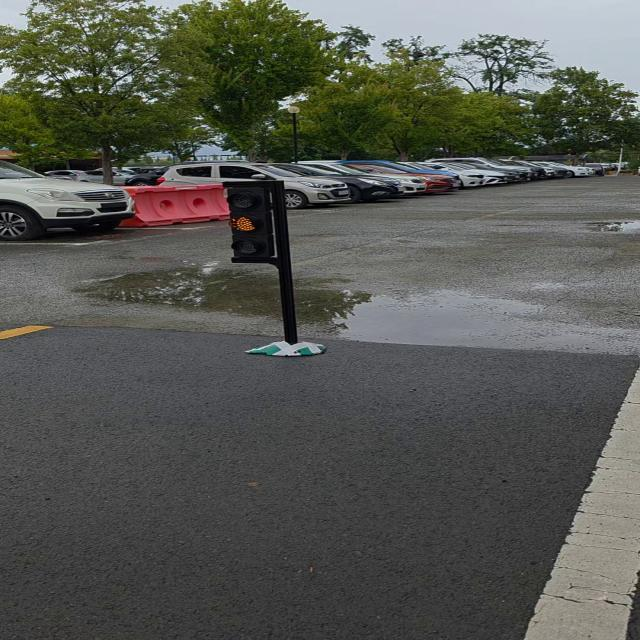yellow: (228, 185, 285, 264)
